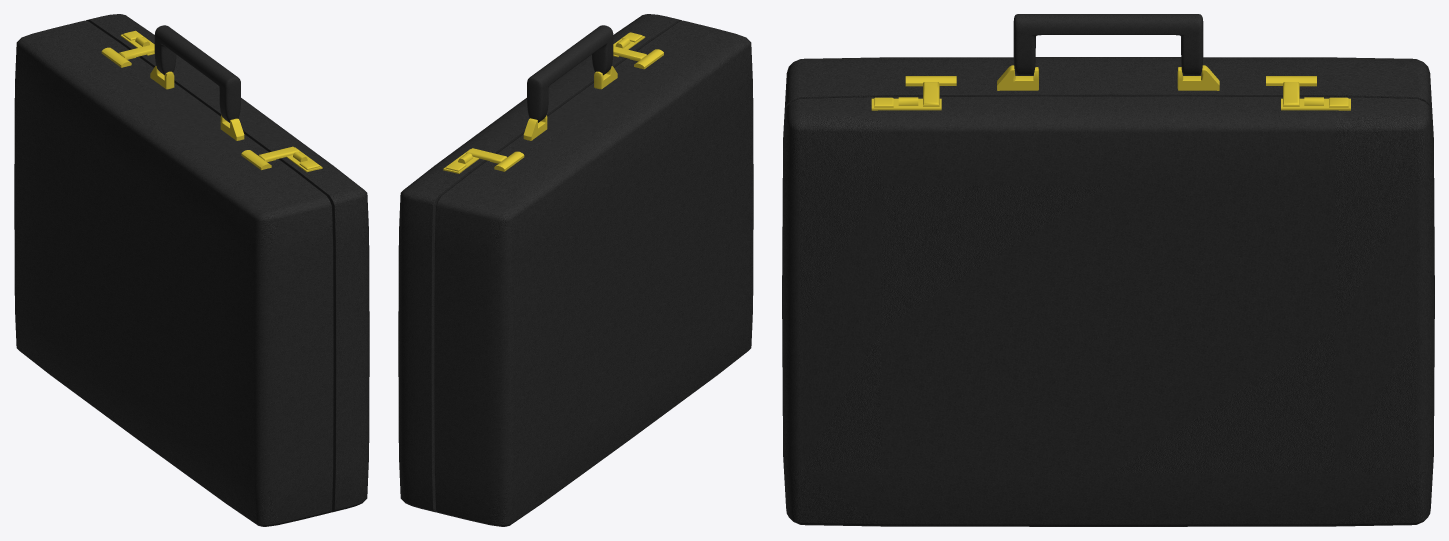
3 views of the same model, side by side, from view 1: azimuth 30°, elevation 25°; view 2: azimuth 150°, elevation 25°; view 3: azimuth 270°, elevation 25° (orthographic). The views are drawn at different scales.
Parts seen in each view (by area): view 1: Team3_Sanchez_Briefcase; view 2: Team3_Sanchez_Briefcase; view 3: Team3_Sanchez_Briefcase.
Part boxes in pixels (x1,y1,x2,y2): Team3_Sanchez_Briefcase: [14, 14, 369, 526]; Team3_Sanchez_Briefcase: [398, 14, 753, 526]; Team3_Sanchez_Briefcase: [782, 14, 1434, 526].
Bounding box in the file's own units: 2.14 × 6.41 × 7.78.
2 materials, 1 textured.
